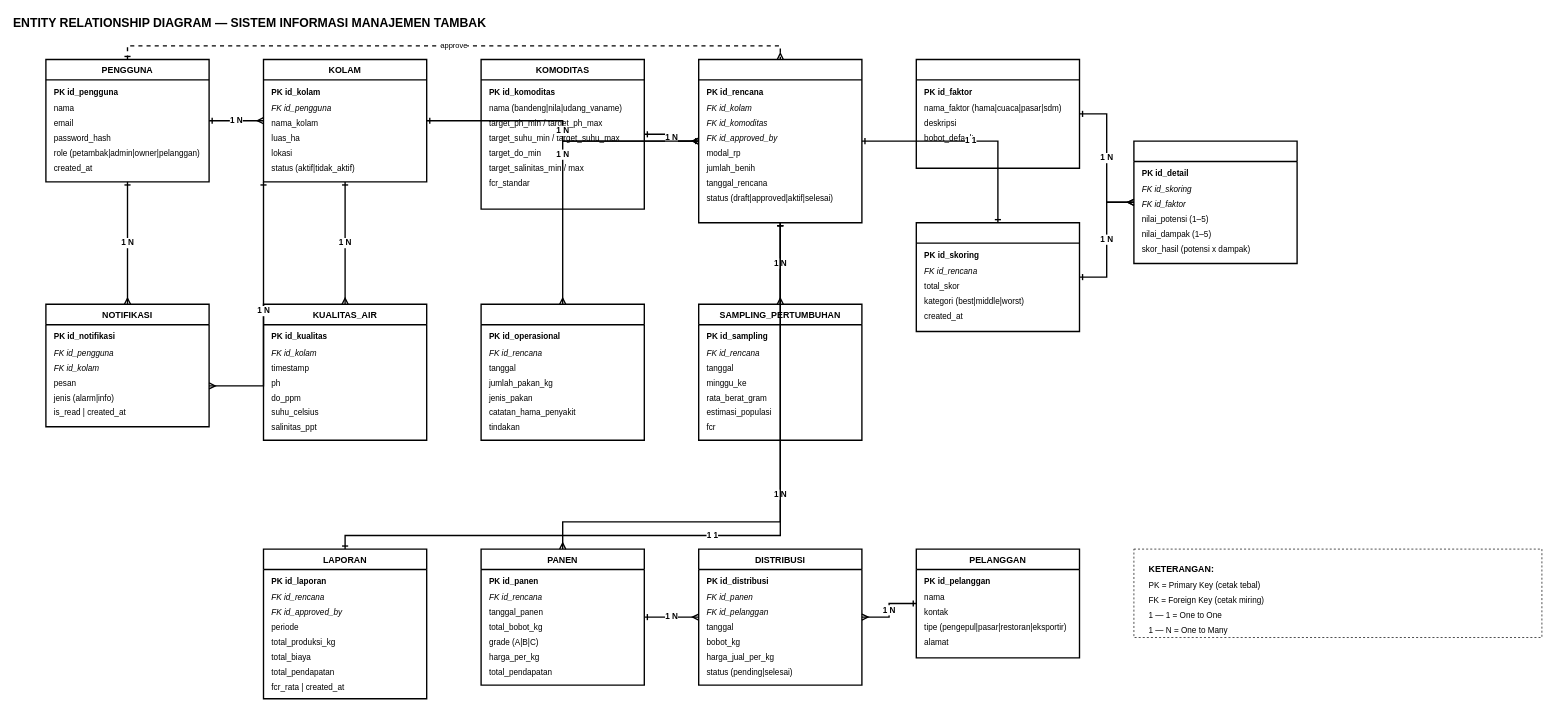
The diagram is 1554 pixels wide and 711 high, and some of its shapes have lost their labels. Each missing label, with the box of its shape:
DETAIL_SKORING: (1133, 140, 1297, 264)
FAKTOR_RISIKO: (915, 58, 1080, 169)
OPERASIONAL_HARIAN: (480, 303, 645, 441)
RENCANA_TEBAR: (698, 58, 862, 223)
SKORING_RISIKO: (915, 222, 1080, 332)
